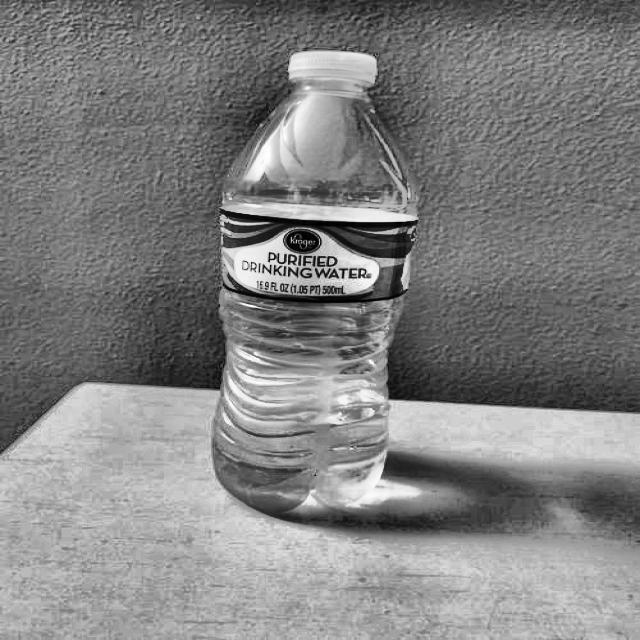waterbottle: (202, 39, 428, 522)
